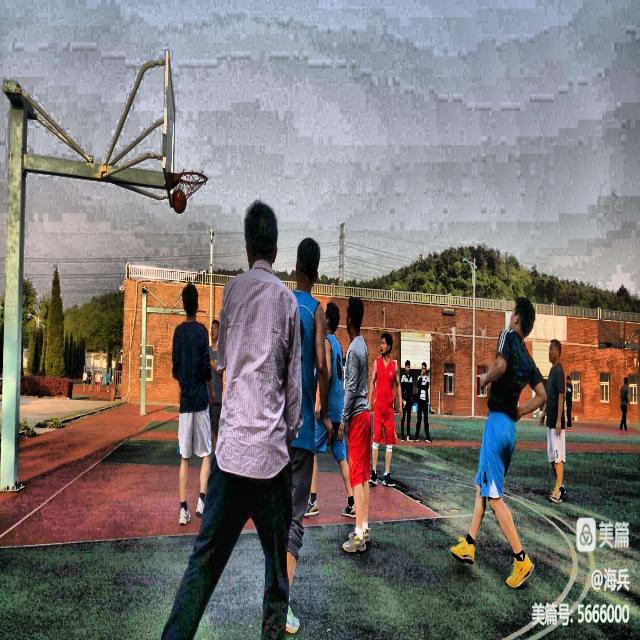board: (173, 189, 186, 213)
